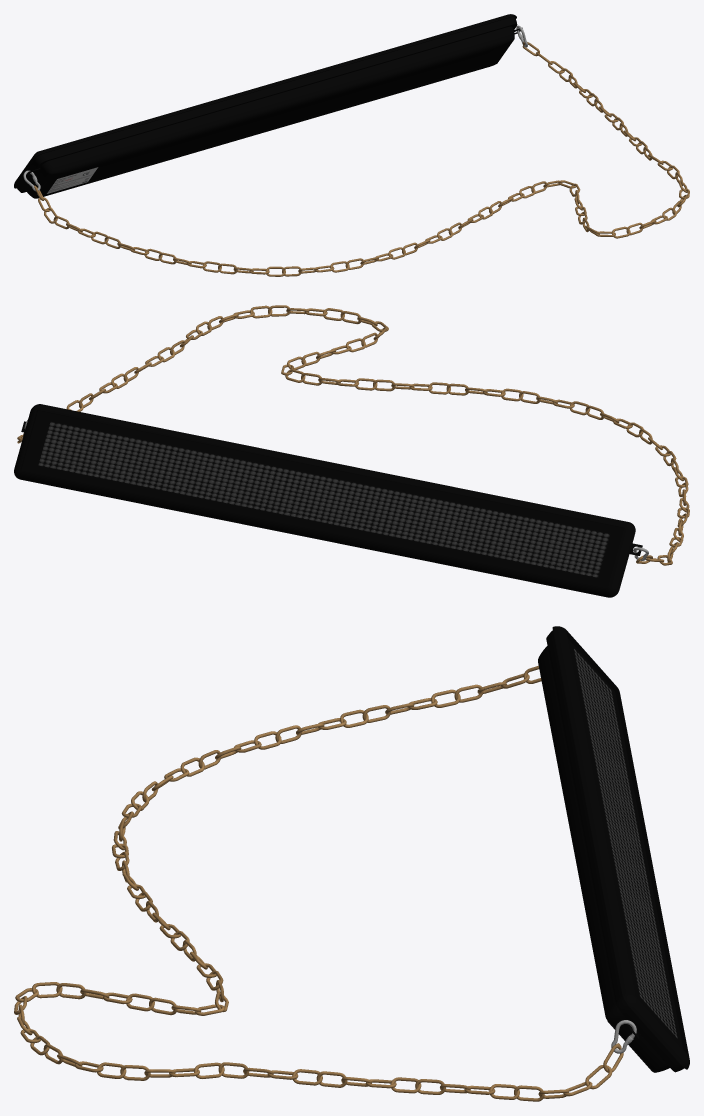
File: i-cant-get-no-Laufband.glb
3 renders of one model, top to bottom at view 1: azimuth 30°, elevation 25°; view 2: azimuth 150°, elevation 25°; view 3: azimuth 270°, elevation 25°, orthographic. The views are drawn at different scales.
Parts seen in each view (by area): view 1: Cube (×4), Cube.1, Plane; view 2: Plane.1, Cube.1, Cube; view 3: Cube (×3), Plane.1, Cube.1.
Part boxes in pixels (bbox=[...]): Cube (×4): bbox=[14, 14, 517, 198]; Cube.1: bbox=[14, 16, 516, 188]; Plane: bbox=[47, 167, 98, 193]; Plane.1: bbox=[38, 421, 610, 577]; Cube.1: bbox=[20, 410, 624, 588]; Cube: bbox=[14, 404, 635, 597]; Cube (×3): bbox=[538, 626, 689, 1072]; Plane.1: bbox=[573, 648, 677, 1038]; Cube.1: bbox=[566, 631, 687, 1054].
Size of the model in its own units: 1.07 by 0.106 by 0.7541.
Materials: 7 (4 with a texture image).
